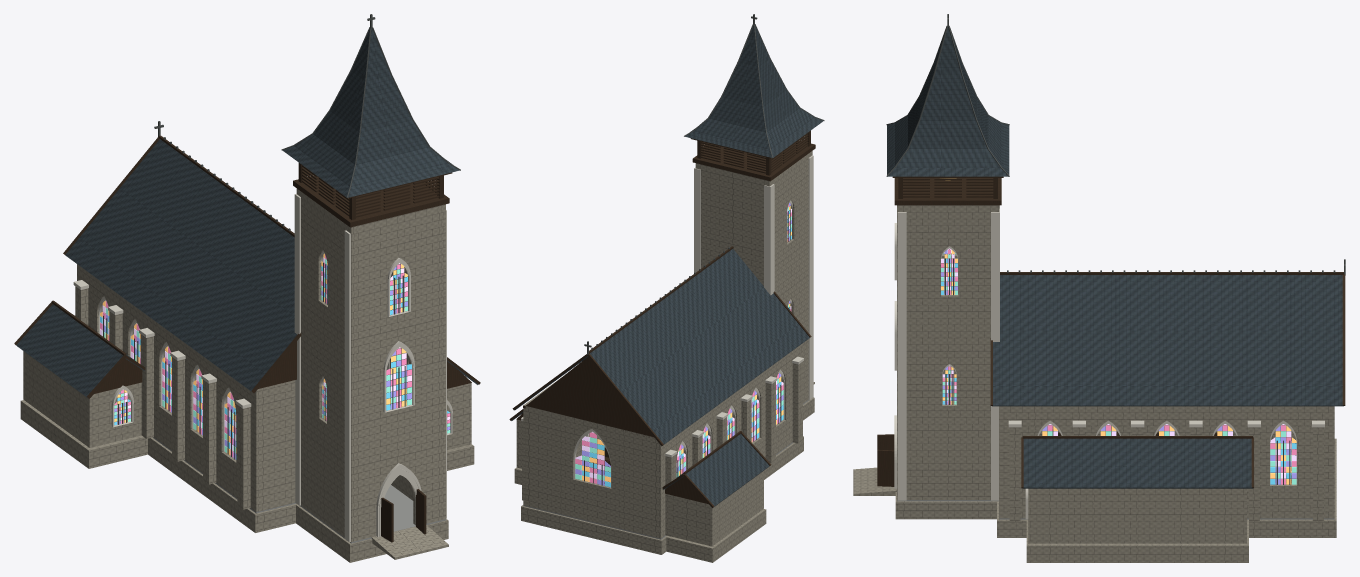
File: church.glb
3 renders of one model, left to right at view 1: azimuth 30°, elevation 25°; view 2: azimuth 150°, elevation 25°; view 3: azimuth 270°, elevation 25°, orthographic. The views are drawn at different scales.
Parts seen in each view (by area): view 1: Church Weathered limestone, Church Blue slate, Church Aged dark oak, Church Carved pale stone, Church Forged iron, Church Worn flagstones, Church Glass 2, Church Glass 4, Church Glass 3, Church Glass 5, Church Glass 1, Church Glass 0; view 2: Church Weathered limestone, Church Blue slate, Church Aged dark oak, Church Carved pale stone, Church Forged iron, Church Glass 4, Church Glass 1, Church Glass 2, Church Glass 3, Church Glass 5, Church Glass 0; view 3: Church Blue slate, Church Weathered limestone, Church Carved pale stone, Church Aged dark oak, Church Forged iron, Door leaf 1, Church Glass 3.
Part boxes in pixels (x1=…): Church Weathered limestone: x1=20, y1=188, x2=474, y2=562; Church Blue slate: x1=16, y1=27, x2=478, y2=398; Church Aged dark oak: x1=14, y1=135, x2=480, y2=449; Church Carved pale stone: x1=73, y1=194, x2=452, y2=542; Church Forged iron: x1=103, y1=14, x2=460, y2=459; Church Worn flagstones: x1=153, y1=374, x2=445, y2=543; Church Glass 2: x1=100, y1=254, x2=450, y2=457; Church Glass 4: x1=102, y1=259, x2=450, y2=452; Church Glass 3: x1=100, y1=253, x2=407, y2=454; Church Glass 5: x1=100, y1=257, x2=450, y2=450; Church Glass 1: x1=102, y1=264, x2=450, y2=459; Church Glass 0: x1=100, y1=265, x2=450, y2=459; Church Weathered limestone: x1=514, y1=151, x2=814, y2=562; Church Blue slate: x1=511, y1=25, x2=823, y2=507; Church Aged dark oak: x1=509, y1=130, x2=815, y2=507; Church Carved pale stone: x1=521, y1=155, x2=813, y2=487; Church Forged iron: x1=584, y1=14, x2=824, y2=485; Church Glass 4: x1=575, y1=207, x2=791, y2=480; Church Glass 1: x1=575, y1=203, x2=791, y2=485; Church Glass 2: x1=575, y1=204, x2=791, y2=483; Church Glass 3: x1=582, y1=206, x2=791, y2=482; Church Glass 5: x1=575, y1=209, x2=791, y2=478; Church Glass 0: x1=582, y1=210, x2=791, y2=487; Church Blue slate: x1=887, y1=26, x2=1343, y2=488; Church Weathered limestone: x1=853, y1=205, x2=1336, y2=562; Church Carved pale stone: x1=894, y1=205, x2=1324, y2=519; Church Aged dark oak: x1=892, y1=176, x2=1345, y2=488; Church Forged iron: x1=886, y1=14, x2=1345, y2=484; Door leaf 1: x1=877, y1=449, x2=894, y2=486; Church Glass 3: x1=941, y1=250, x2=1296, y2=484.
Bounding box in the file's own units: 22.31 × 36.51 × 33.76.
Materials: 17 (4 with a texture image).
